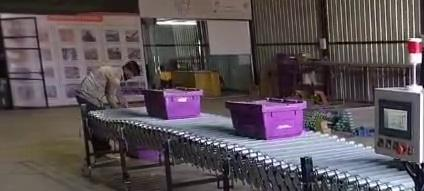box: (226, 98, 306, 139), (143, 88, 202, 119)
